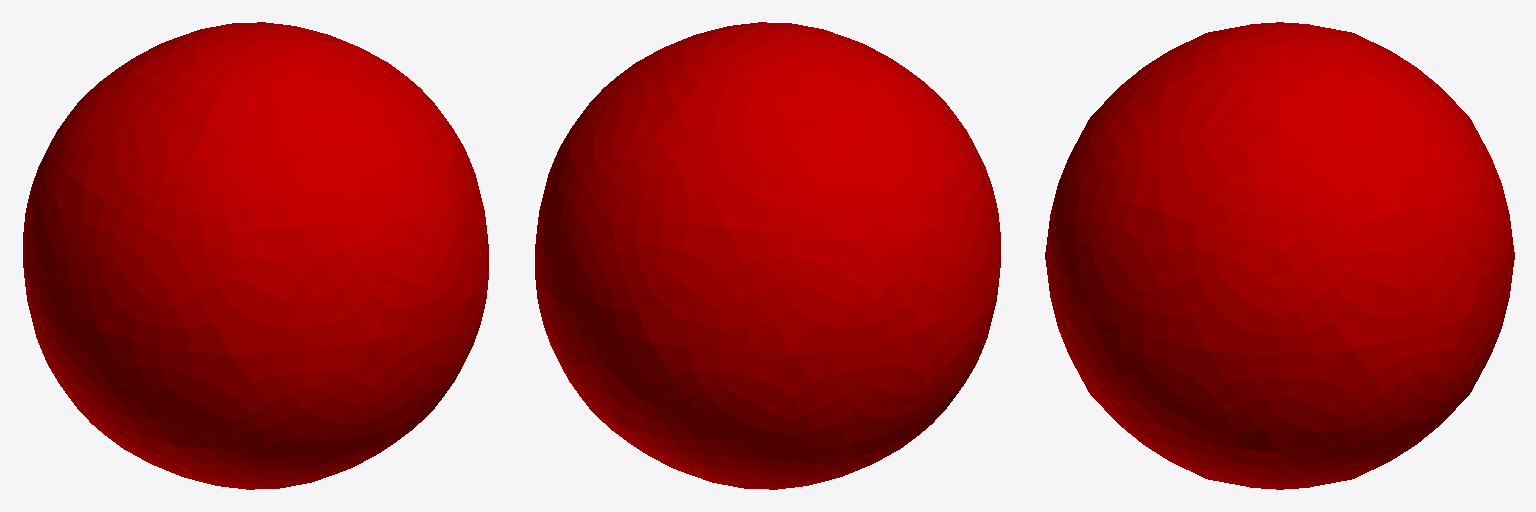
File: user_position_proxy.obj
3 renders of one model, left to right at view 1: azimuth 30°, elevation 25°; view 2: azimuth 150°, elevation 25°; view 3: azimuth 270°, elevation 25°, orthographic.
Parts seen in each view (by area): view 1: Icosphere; view 2: Icosphere; view 3: Icosphere.
Boxes of the visible parts, x1=… form: Icosphere: x1=23, y1=22, x2=488, y2=489; Icosphere: x1=535, y1=22, x2=1000, y2=489; Icosphere: x1=1045, y1=22, x2=1514, y2=489.
Size of the model in its own units: 1.86 by 1.87 by 1.87.